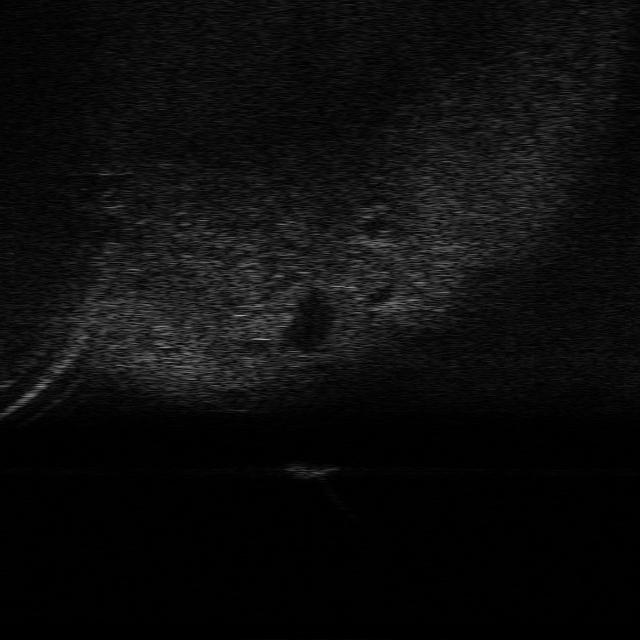cube: (286, 462, 335, 480)
